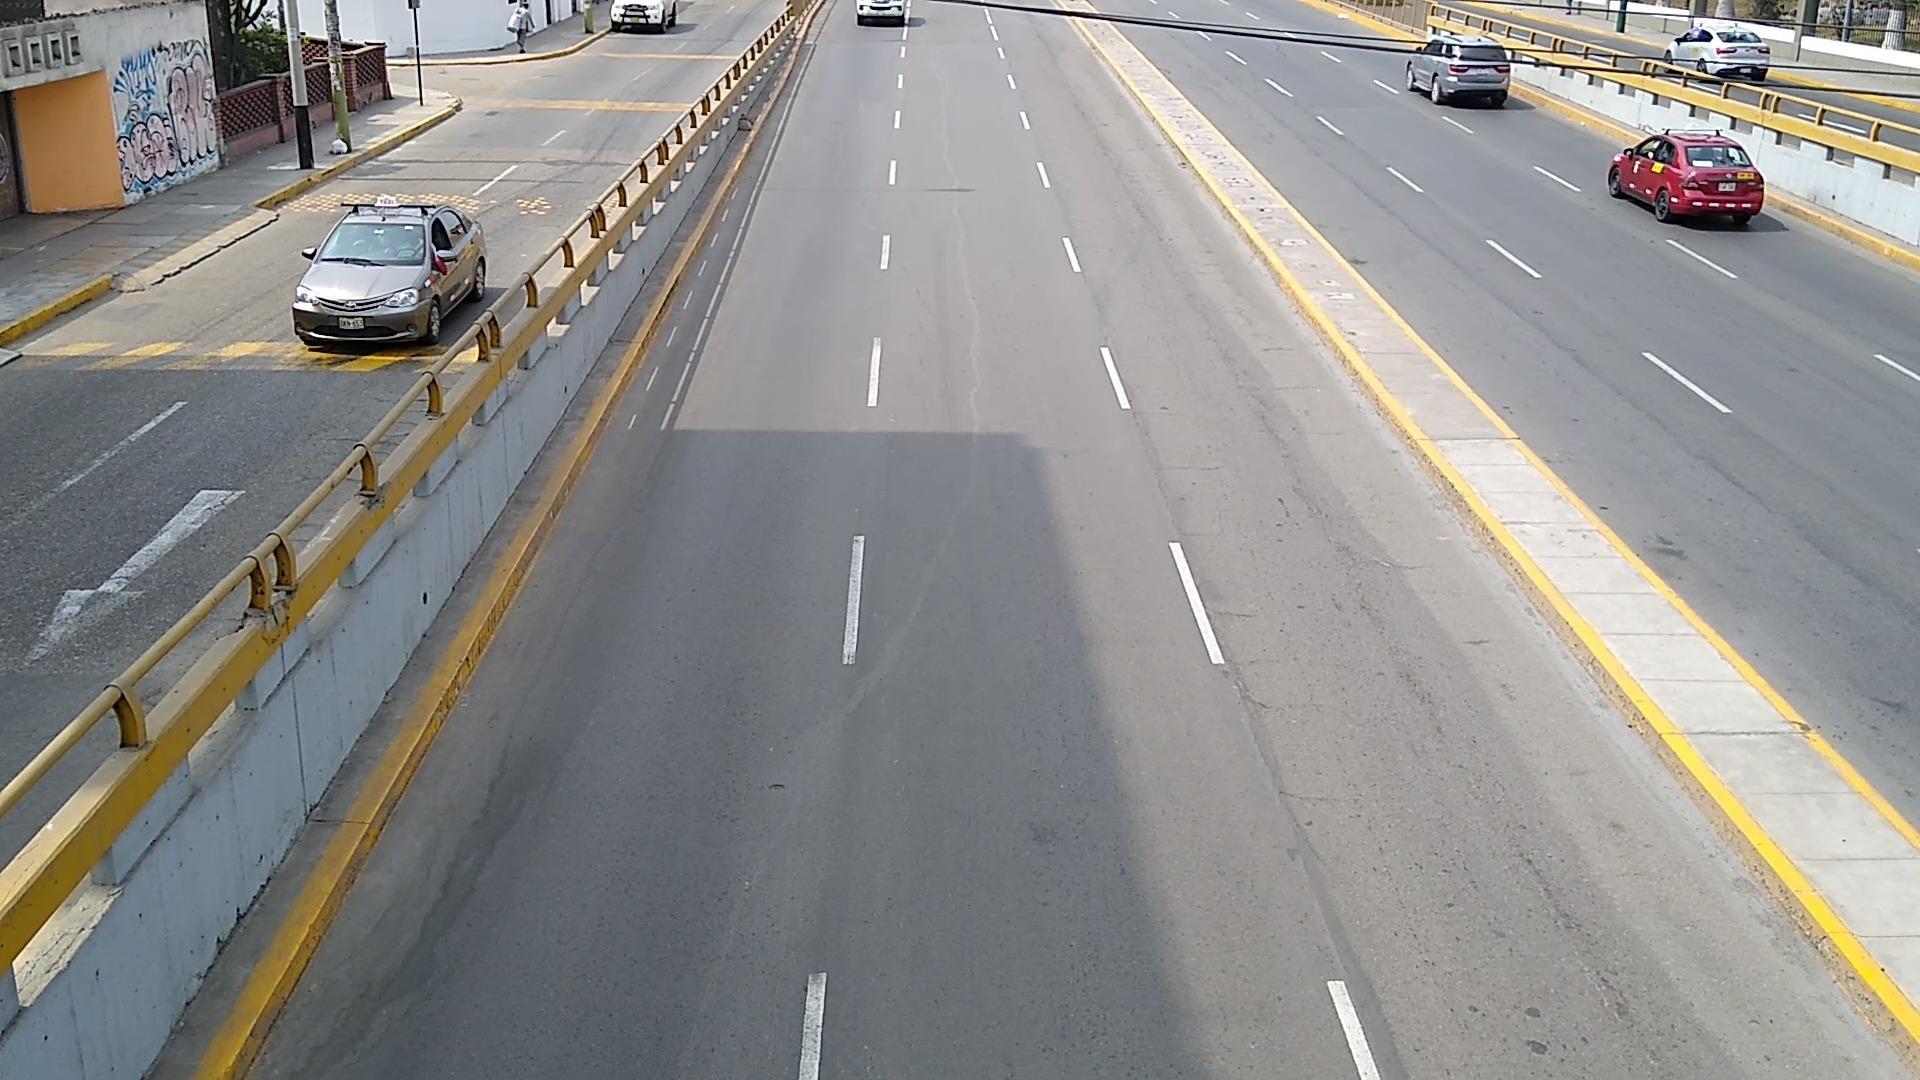car: (293, 199, 488, 345), (1609, 128, 1766, 225), (1406, 34, 1511, 105), (1665, 18, 1770, 83), (612, 0, 679, 30)
